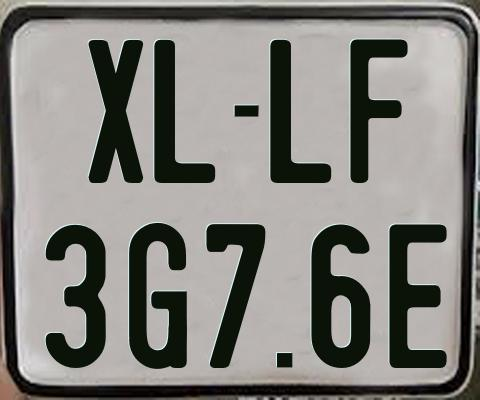3: (44, 224, 107, 371)
6: (308, 222, 373, 370)
7: (206, 224, 268, 372)
E: (387, 221, 447, 371)
F: (350, 37, 409, 183)
G: (128, 221, 188, 369)
L: (268, 38, 334, 187), (153, 40, 219, 188)
X: (89, 38, 149, 183)
